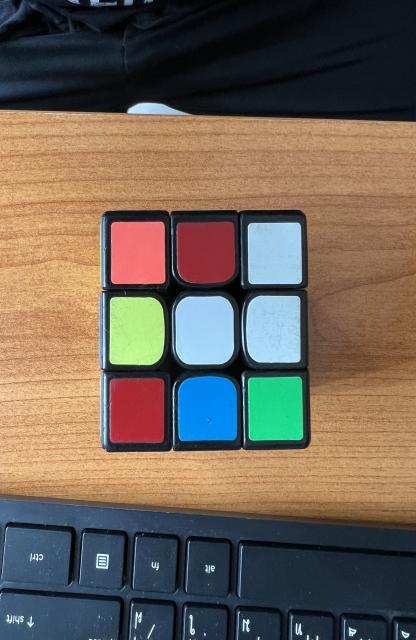Blue: (178, 376, 237, 441)
Green: (248, 376, 303, 441)
Orange: (110, 221, 166, 285)
Red: (177, 221, 235, 284), (109, 379, 165, 442)
White: (176, 296, 234, 365), (246, 295, 301, 362), (248, 222, 302, 285)
Yellow: (109, 298, 165, 365)
